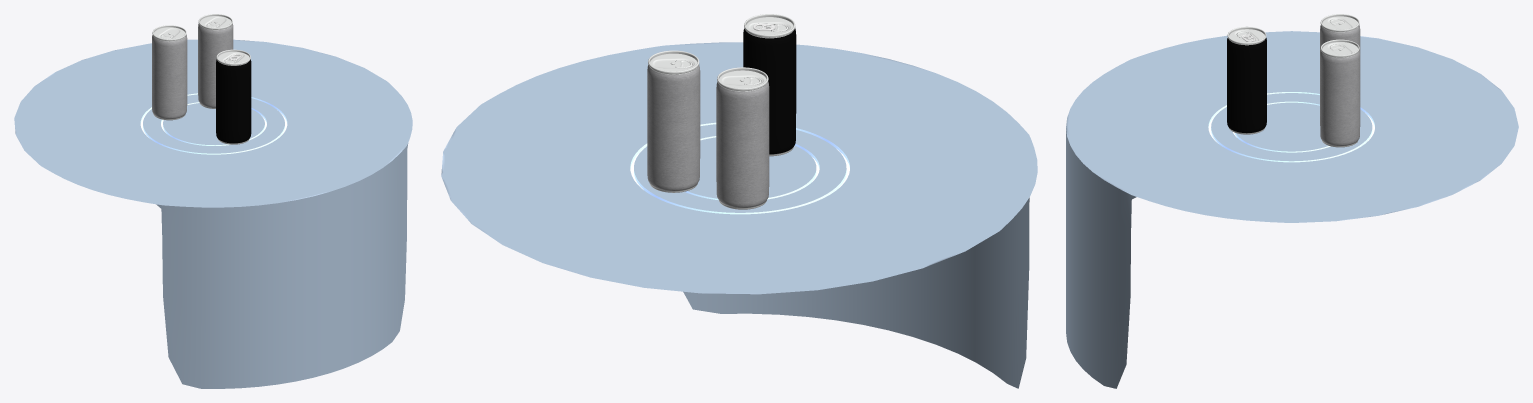
File: 2screen.glb
3 renders of one model, left to right at view 1: azimuth 30°, elevation 25°; view 2: azimuth 150°, elevation 25°; view 3: azimuth 270°, elevation 25°, orthographic. The views are drawn at different scales.
Visible parts, largest first — view 1: Cylinder.006, aluminium can 250 ml.005, aluminium can 250 ml.006, aluminium can 250 ml.007; view 2: Cylinder.006, aluminium can 250 ml.006, aluminium can 250 ml.007, aluminium can 250 ml.005; view 3: Cylinder.006, aluminium can 250 ml.007, aluminium can 250 ml.005, aluminium can 250 ml.006.
Part boxes in pixels (left/top/right/bottom): Cylinder.006: left=14, top=39, right=412, bottom=388; aluminium can 250 ml.005: left=216, top=49, right=251, bottom=144; aluminium can 250 ml.006: left=152, top=25, right=187, bottom=120; aluminium can 250 ml.007: left=198, top=14, right=233, bottom=108; Cylinder.006: left=441, top=42, right=1037, bottom=388; aluminium can 250 ml.006: left=716, top=67, right=769, bottom=209; aluminium can 250 ml.007: left=647, top=50, right=700, bottom=192; aluminium can 250 ml.005: left=743, top=14, right=796, bottom=156; Cylinder.006: left=1066, top=31, right=1518, bottom=388; aluminium can 250 ml.007: left=1320, top=39, right=1360, bottom=147; aluminium can 250 ml.005: left=1227, top=26, right=1266, bottom=134; aluminium can 250 ml.006: left=1320, top=14, right=1360, bottom=53.
Size of the model in its own units: 0.6716 by 0.4863 by 0.6695.
Materials: 7 (4 with a texture image).
